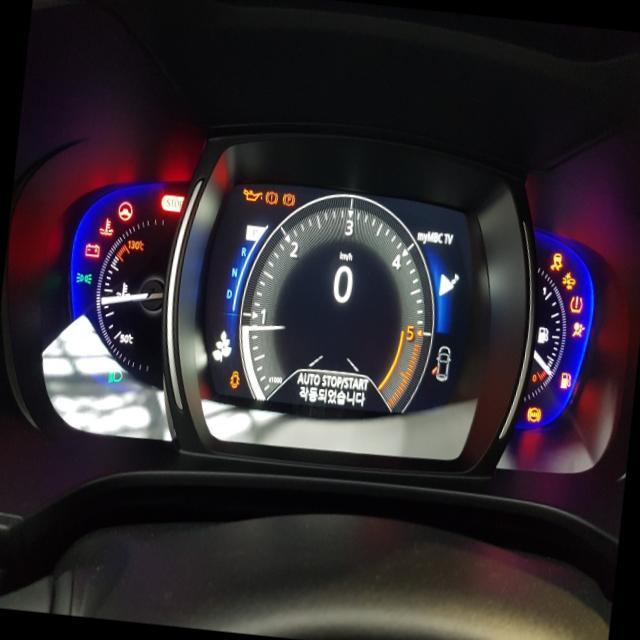Doors: (228, 368, 239, 388)
Engine cooling system: (98, 215, 114, 236)
Low beam: (106, 368, 122, 384)
Low fuel level: (558, 369, 570, 388)
SideLamp: (74, 270, 92, 284)
